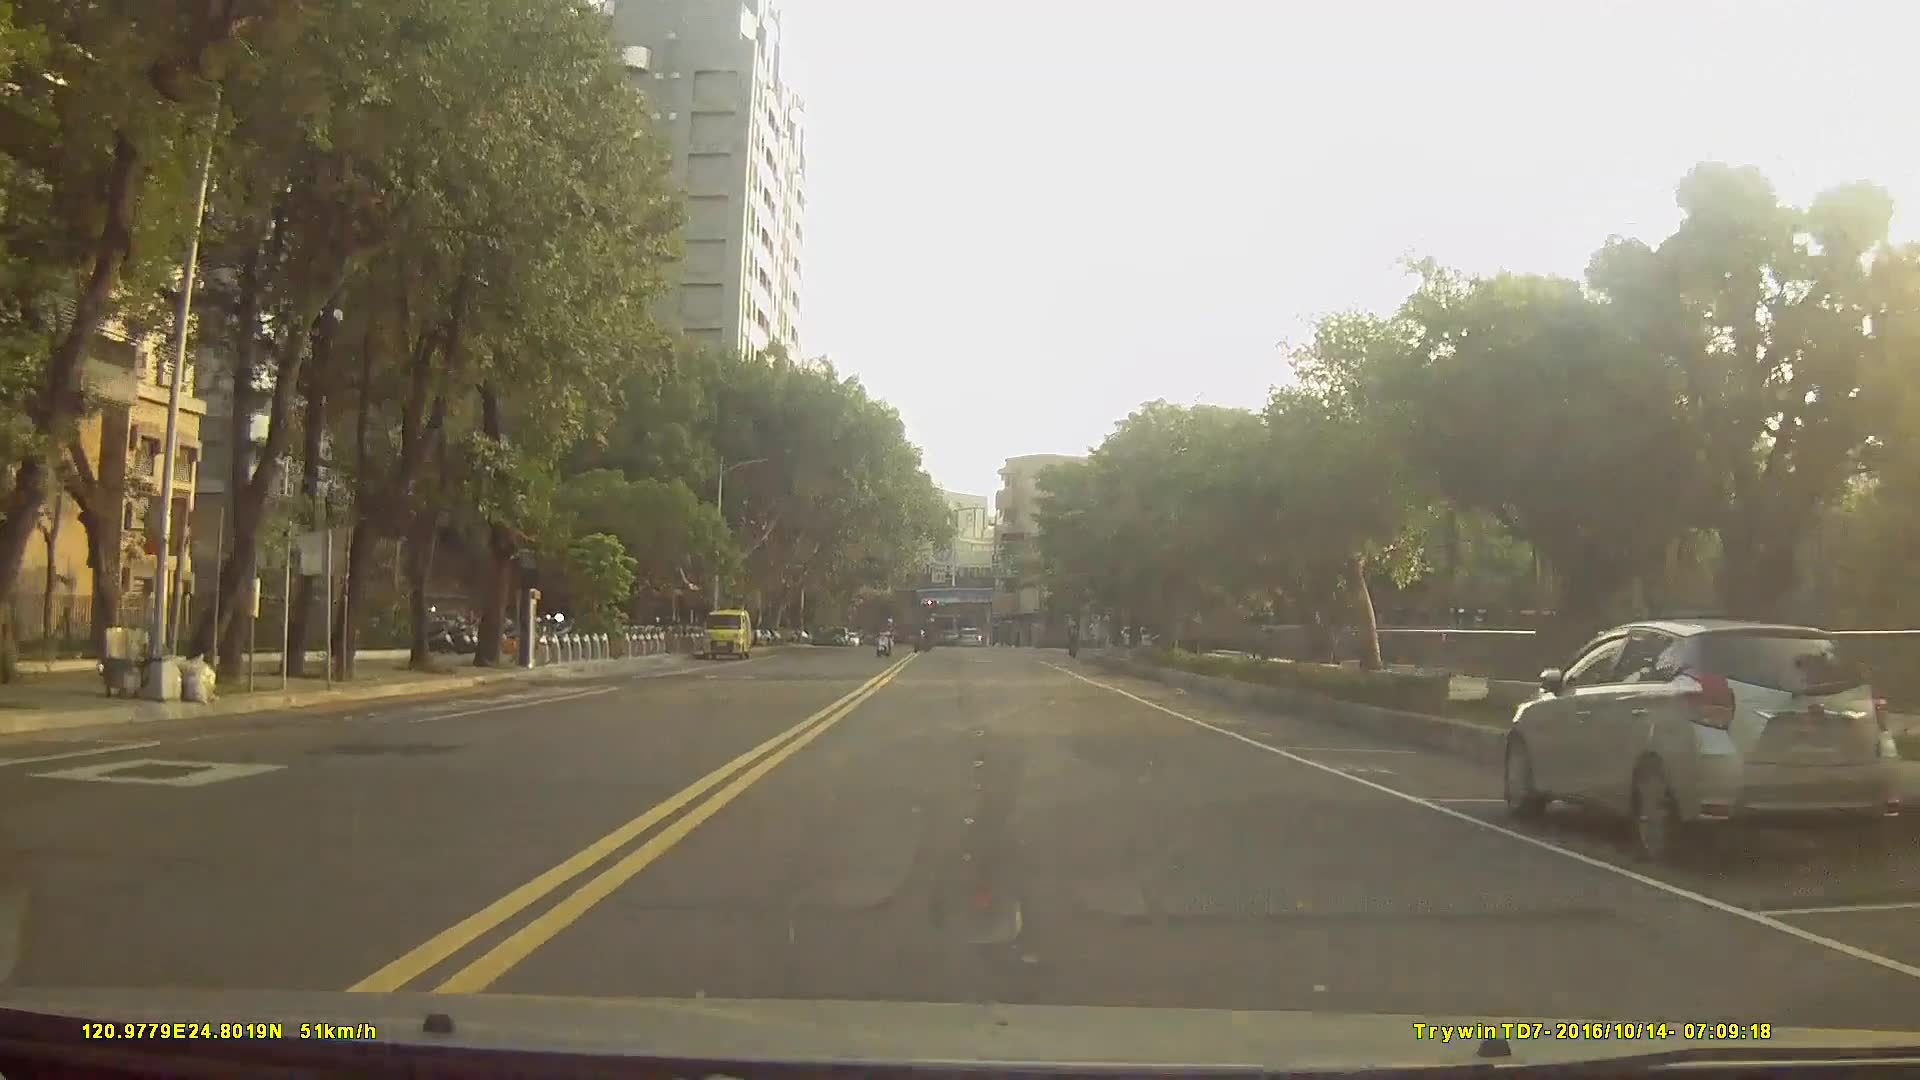pedestrian: (1086, 613, 1106, 656)
rider: (873, 615, 900, 661), (913, 618, 940, 655)
vehicle: (1500, 617, 1899, 866), (955, 624, 981, 648)
